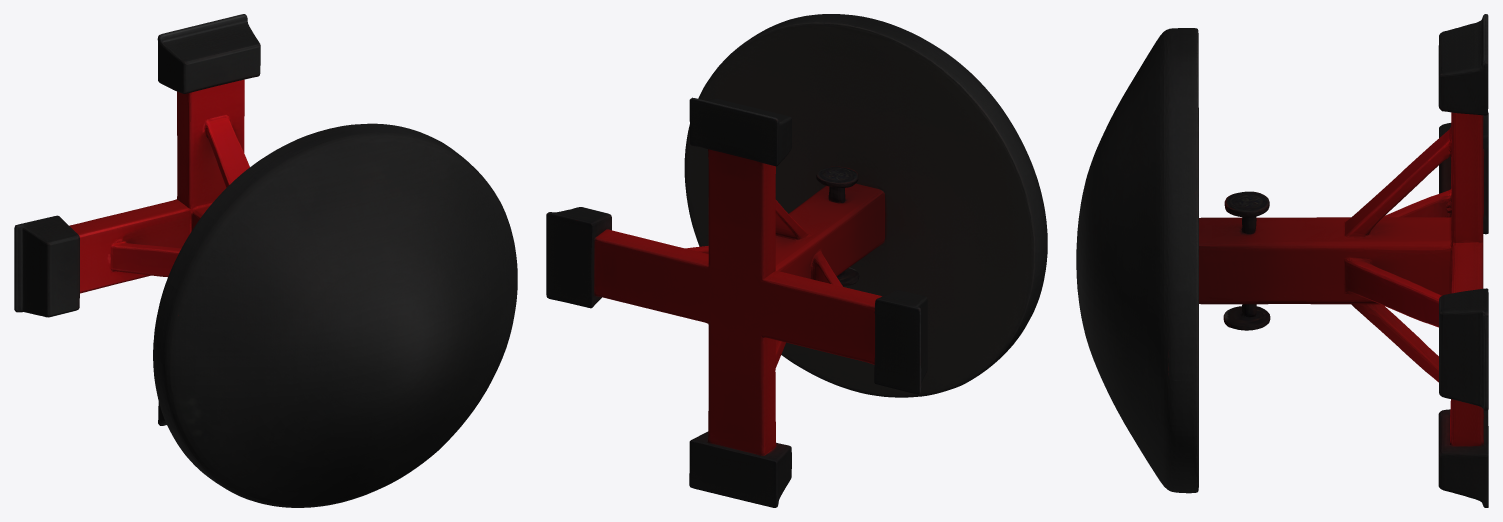
File: mushroom_visual.obj
3 renders of one model, left to right at view 1: azimuth 30°, elevation 25°; view 2: azimuth 150°, elevation 25°; view 3: azimuth 270°, elevation 25°, orthographic. The views are drawn at different scales.
Parts seen in each view (by area): view 1: mushroom_visual; view 2: mushroom_visual; view 3: mushroom_visual.
Boxes of the visible parts, x1=… form: mushroom_visual: x1=14, y1=14, x2=517, y2=507; mushroom_visual: x1=546, y1=14, x2=1047, y2=507; mushroom_visual: x1=1076, y1=14, x2=1488, y2=507.
Size of the model in its own units: 0.665 by 0.6616 by 0.553.
Materials: 1 (1 with a texture image).
